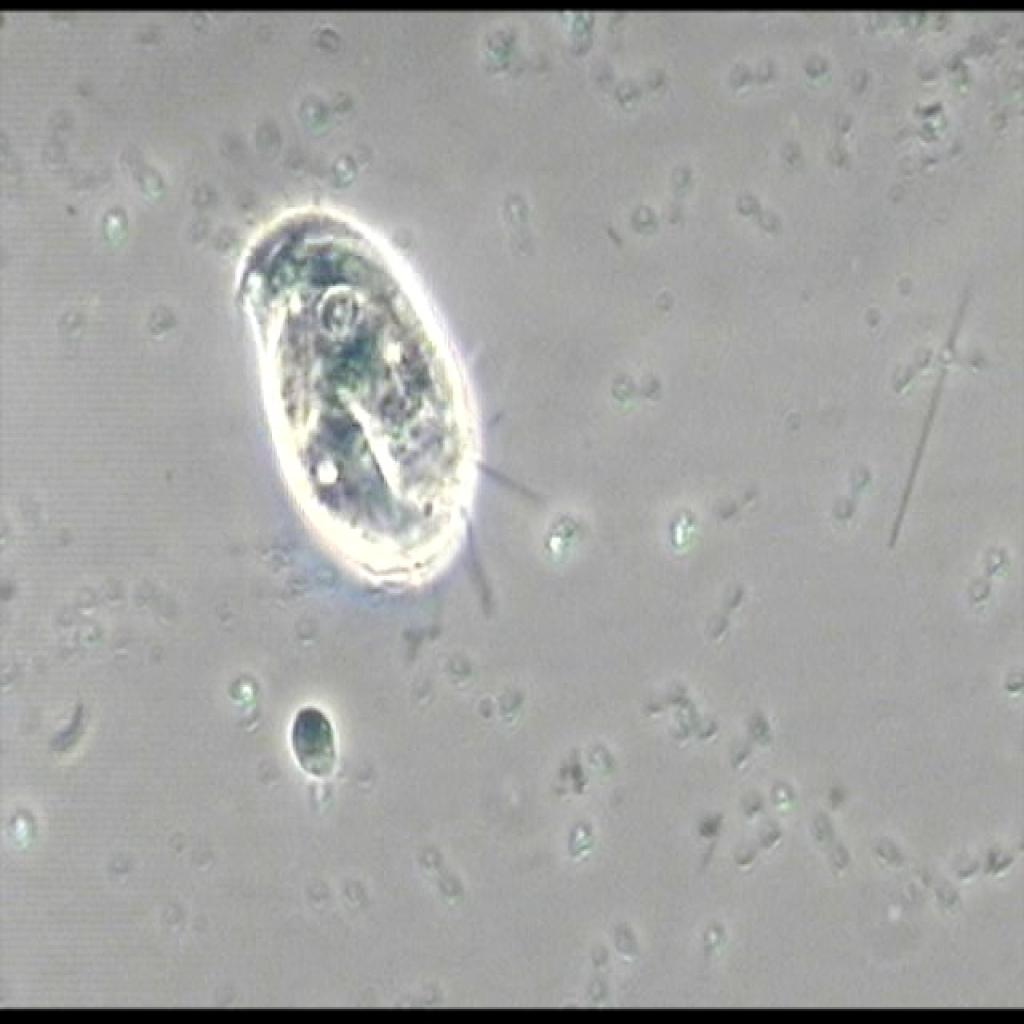Chilodonella: (222, 192, 538, 638)
